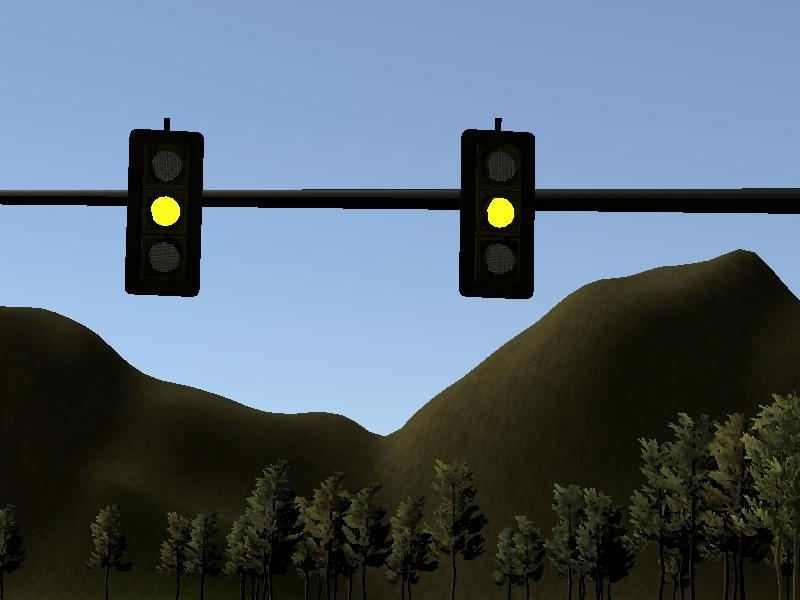yellow: (450, 117, 545, 311), (118, 115, 210, 307)
